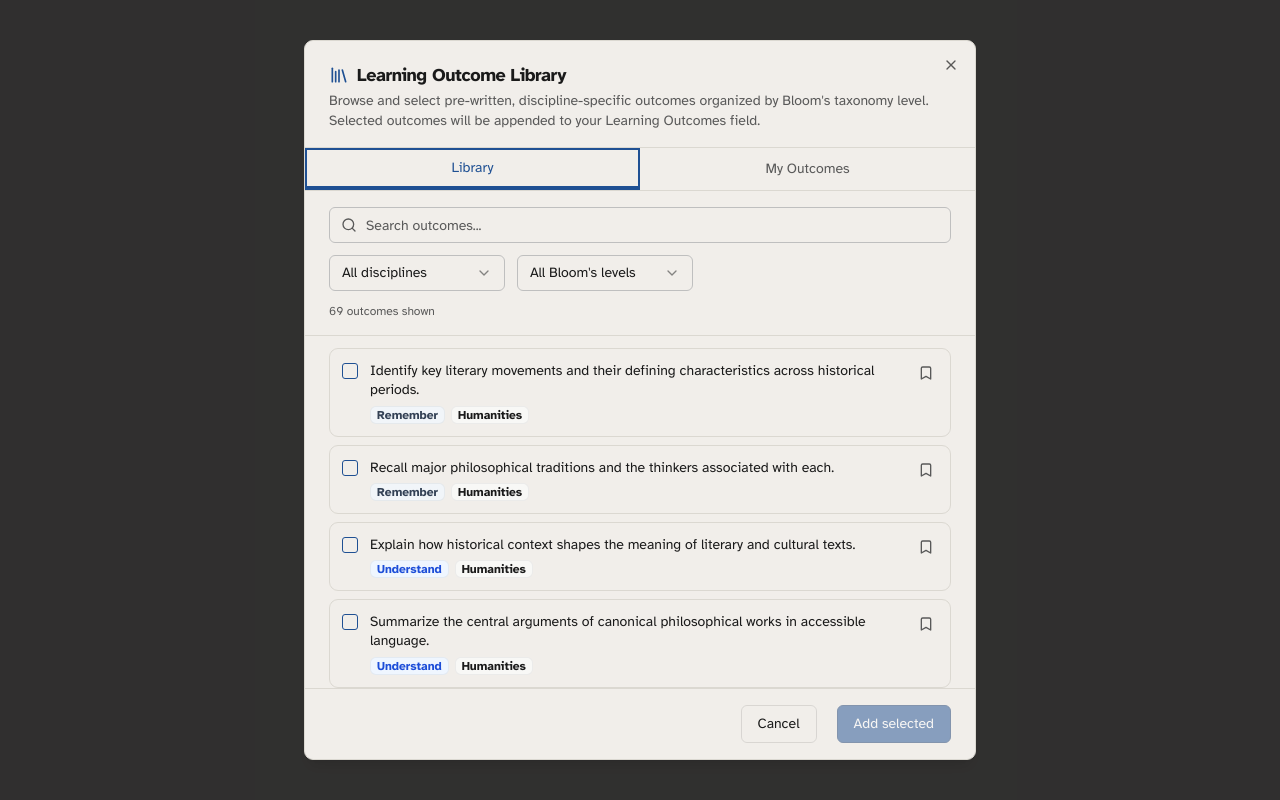
Test: OutcomeLibraryModal tabs › connects each available tab to its matching panel
Click the tab "My Outcomes".
click(808, 169)  # box [640,148,975,190]
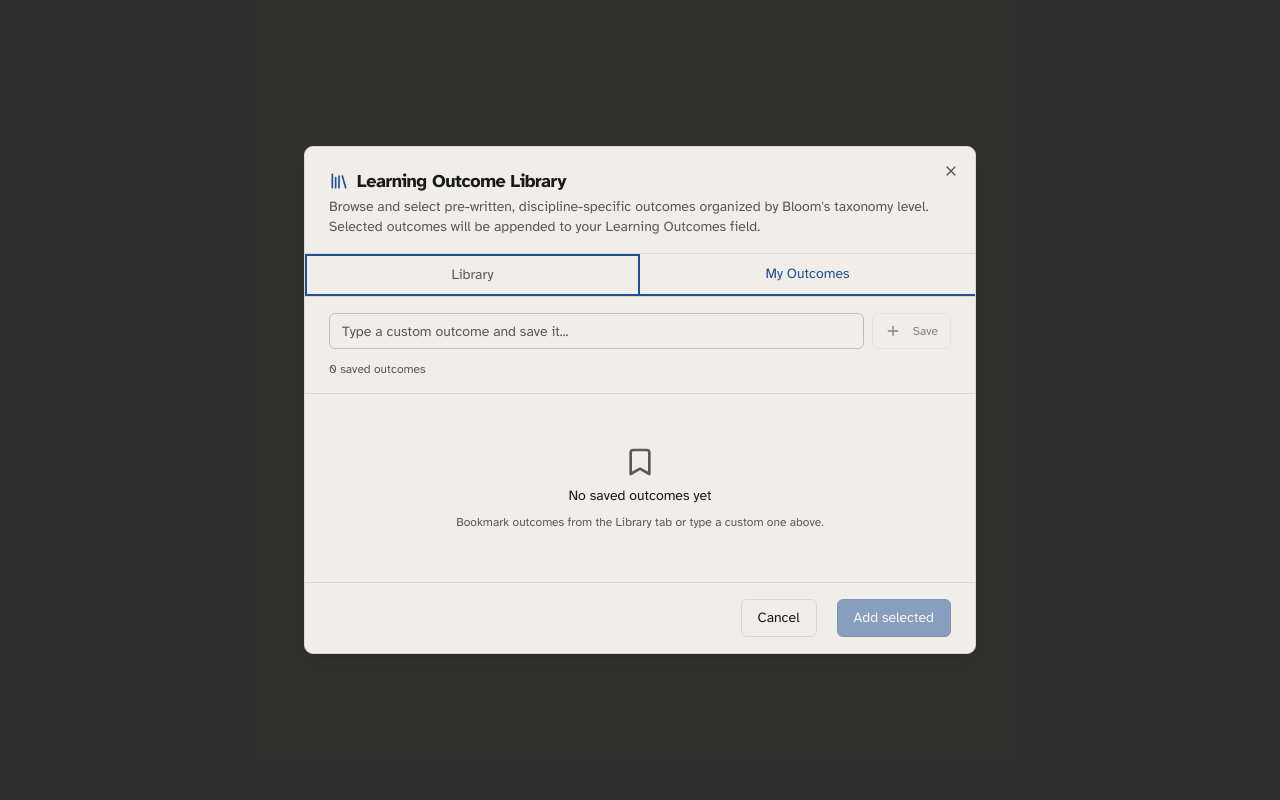
Check: the number of panels is 1, box [305,297,975,582]
